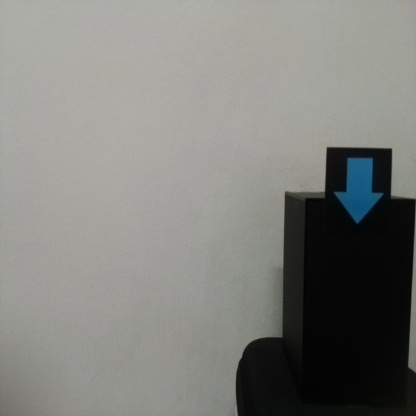id_2: (326, 148, 392, 230)
